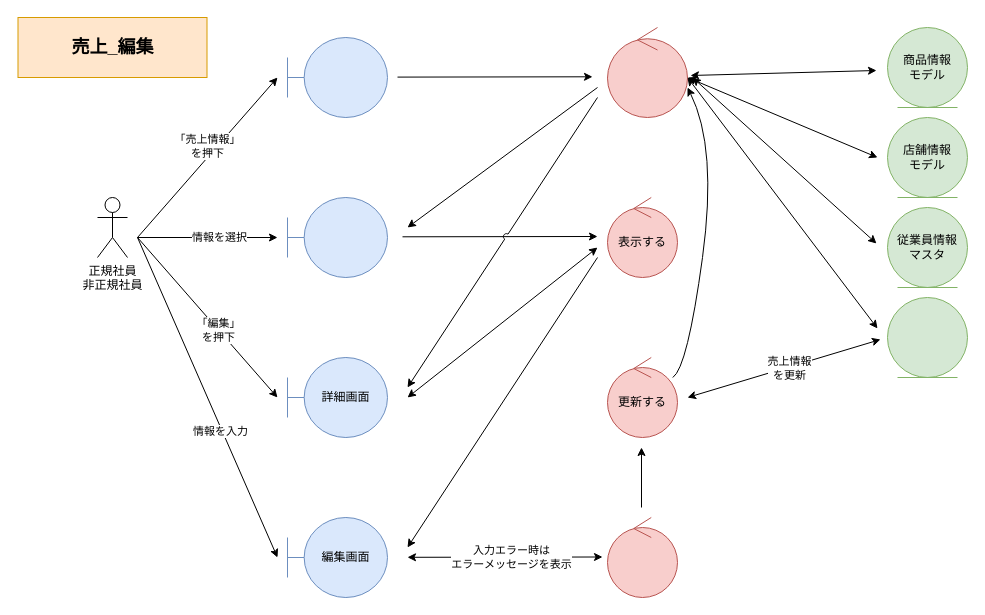
This 985x615 diagram has some shape labels left out. Each missing label, with the centre of its shape:
"ログイン済 ホーム画面" belongs at (337,77).
"入力データを検証する" belongs at (642,557).
"売上情報 を取得する" belongs at (647,72).
"売上情報 モデル" belongs at (927,337).
"売上情報 一覧画面" belongs at (337,237).
